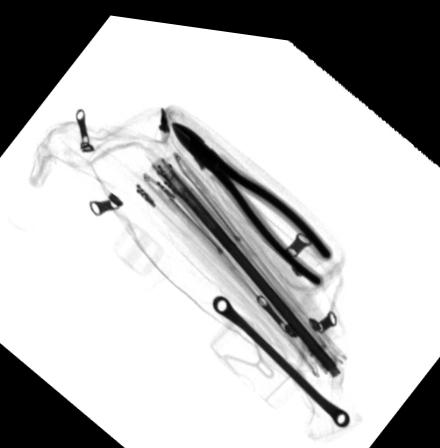Pliers: (171, 115, 334, 279)
Wrench: (210, 287, 351, 417)
